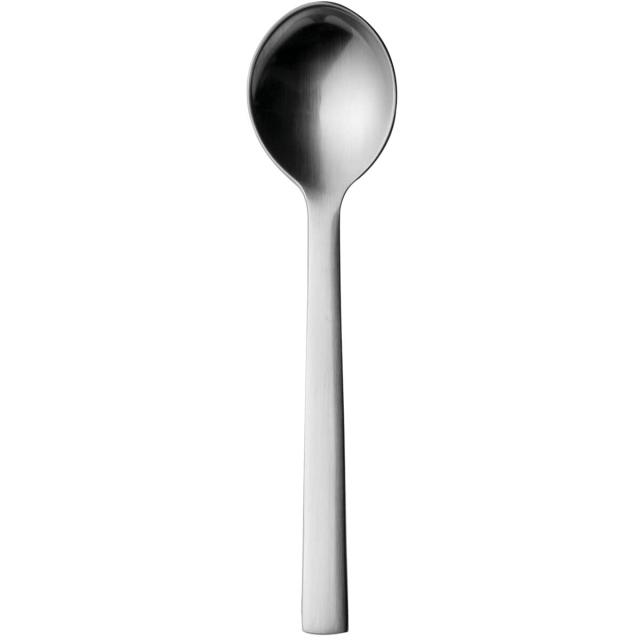spoon: (239, 0, 427, 640)
